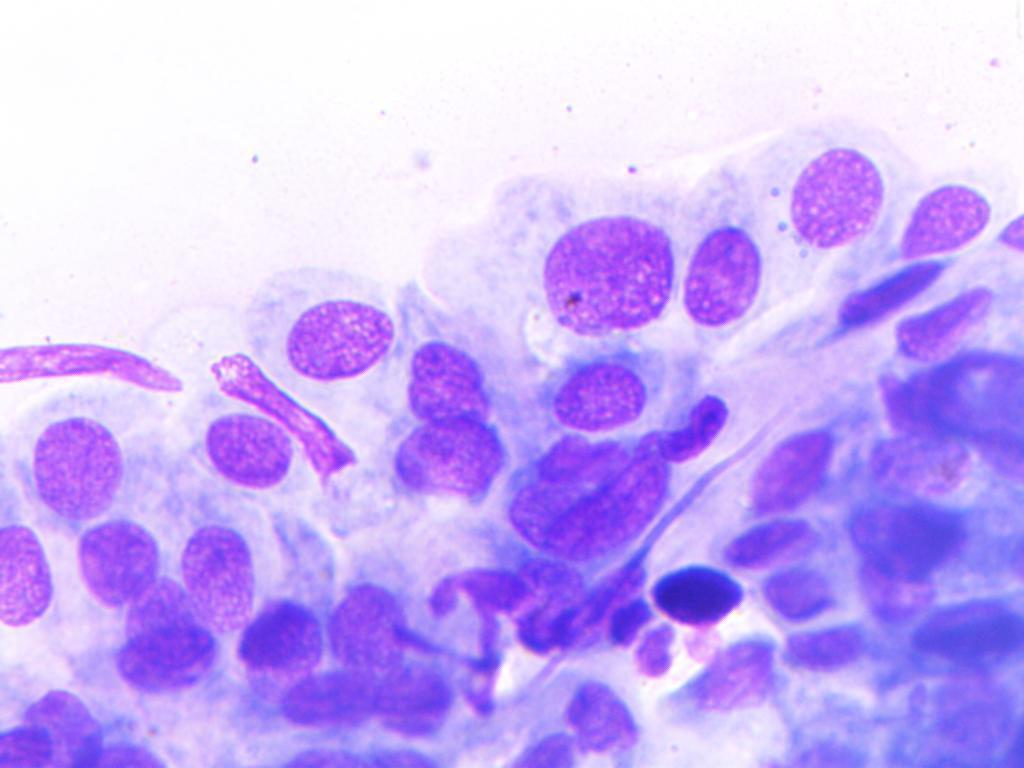artifact: (422, 552, 659, 669), (0, 311, 204, 410), (206, 350, 357, 481), (657, 624, 782, 731), (822, 249, 959, 328), (880, 288, 998, 367), (543, 667, 649, 751), (657, 381, 750, 468), (272, 740, 443, 768), (97, 733, 178, 768)
epithelial: (492, 167, 683, 344), (487, 438, 679, 561), (765, 115, 892, 267), (244, 266, 400, 387), (898, 343, 1024, 482), (677, 148, 769, 338), (843, 482, 980, 594), (22, 412, 132, 524), (903, 588, 1024, 686), (73, 497, 172, 614), (231, 578, 330, 694), (893, 160, 1003, 263), (535, 354, 670, 436), (323, 571, 414, 683), (378, 420, 507, 499), (0, 678, 112, 768), (108, 571, 217, 662), (171, 517, 257, 631), (0, 513, 71, 646), (742, 427, 850, 512), (392, 336, 501, 418), (703, 509, 819, 574), (373, 648, 452, 742), (198, 415, 290, 493), (268, 663, 373, 730), (106, 641, 228, 690), (749, 560, 842, 624), (783, 619, 874, 681)
metaplastic: (636, 553, 752, 632)
